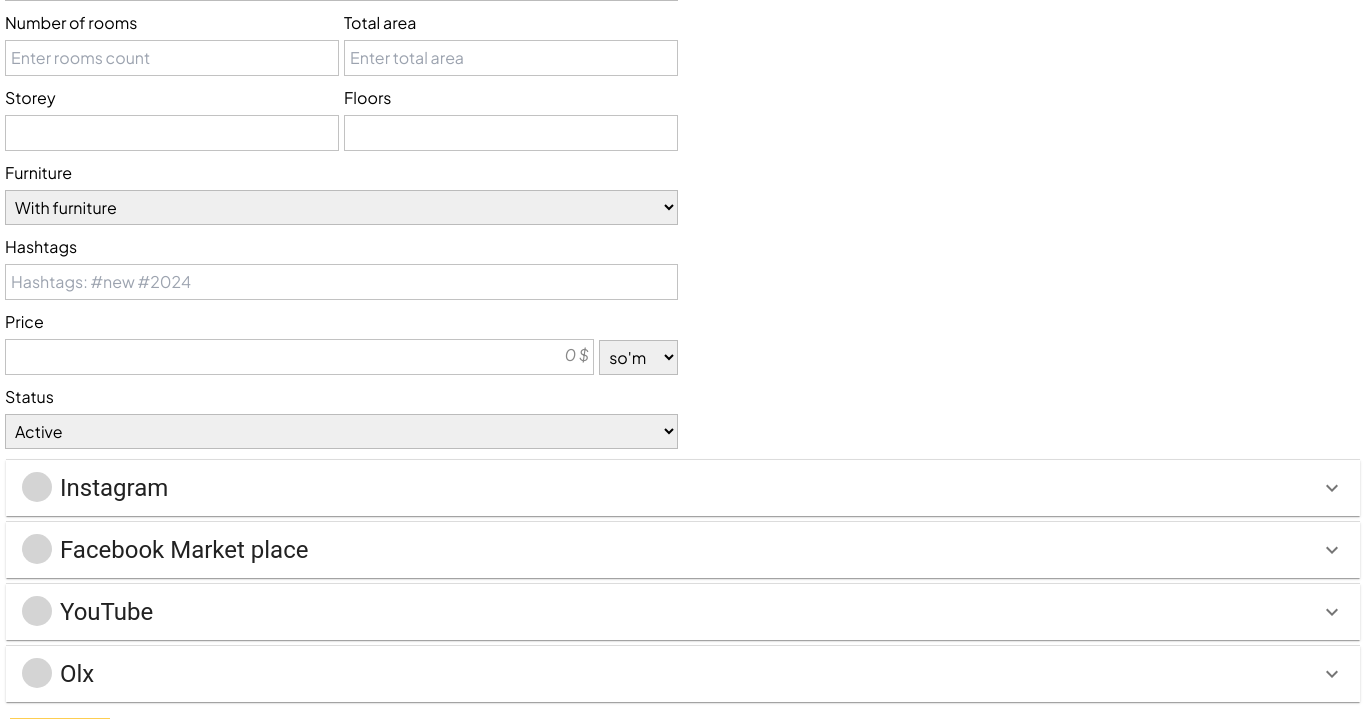
Test case: AdsAdd — price preview wiring (domain's convertDisplayPrice) › previews the USD equivalent (floor(price / rate) + " $") while priceType is so'm
(page scrolled)
Type "1000000" into the number field labelled "Price" at x=300, y=357, box [5,339,594,375]
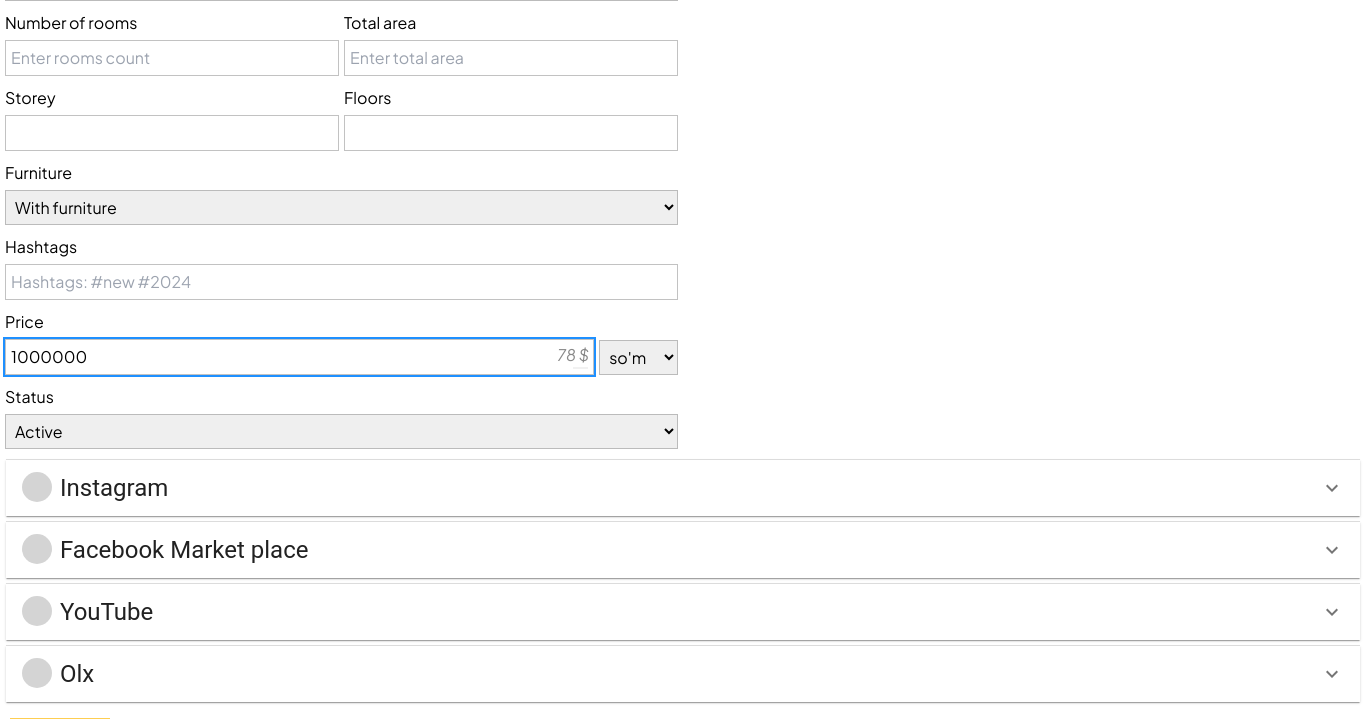
Now the text "78 $" is shown, box [557,343,589,367]
